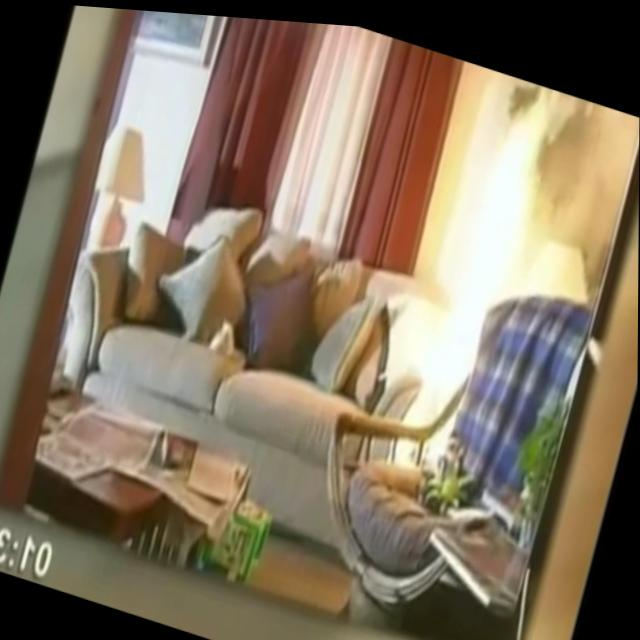fire: (379, 93, 562, 490)
